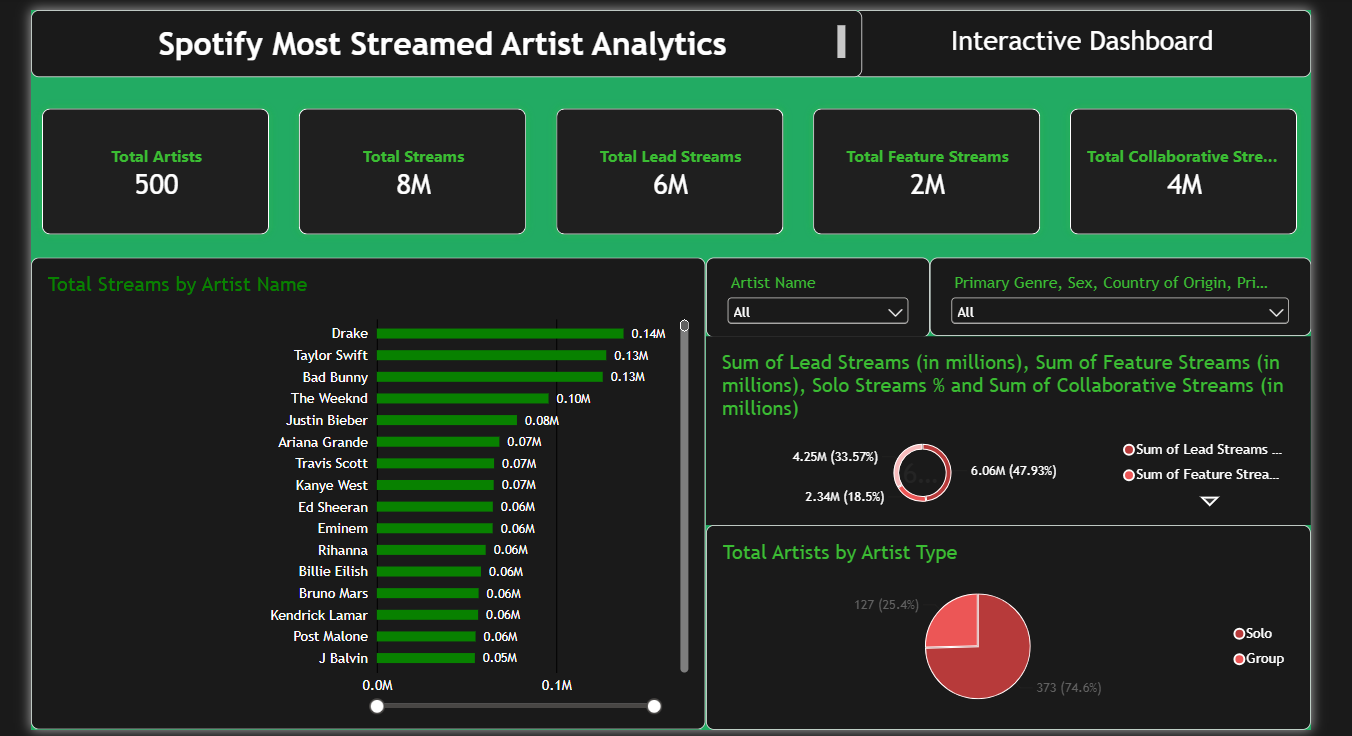

The dashboard page shown, as its layout file describes it:
{"tool":"powerbi","page":{"name":"Overview","canvas":[1280,720],"ordinal":0},"visuals":[{"type":"cardVisual","fields":{"Data":["FactStreamedSpotify.Total Artists","FactStreamedSpotify.Total Streams","FactStreamedSpotify.Total Lead Streams","FactStreamedSpotify.Total Feature Streams","FactStreamedSpotify.Total Collaborative Streams"]},"box":[0,27.9,1280,208.5],"z":0},{"type":"clusteredBarChart","fields":{"Category":["DimArtist.Artist Name"],"Y":["FactStreamedSpotify.Total Streams"]},"box":[0,247.9,674.6,471.8],"z":1000},{"type":"slicer","fields":{"Values":["DimArtist.Artist Name"]},"box":[688,248,224,80],"z":2000},{"type":"donutChart","fields":{"Y":["Sum(FactStreamedSpotify.Lead Streams (in millions))","Sum(FactStreamedSpotify.Feature Streams (in millions))","FactStreamedSpotify.Solo Streams %","Sum(FactStreamedSpotify.Collaborative Streams (in millions))"]},"box":[684.2,325.8,595.8,189.3],"z":3000},{"type":"pieChart","fields":{"Category":["DimArtist. Artist Type"],"Y":["FactStreamedSpotify.Total Artists"]},"box":[684.2,522.8,595.8,197],"z":4000},{"type":"slicer","fields":{"Values":["DimArtist.Primary Genre","DimArtist.Sex","DimArtist.Country of Origin","DimArtist.Primary Language","DimArtist. Artist Type"]},"box":[914.8,247.9,365.2,78.8],"z":5000}]}

Visuals, with their boxes on the page's 1280x720 design canvas (x1, y1, x2, y2). These are canvas units, not pixel positions in the 1352x736 screenshot, which may show the page scaled, cropped or inside an application window:
cardVisual - FactStreamedSpotify.Total Artists x FactStreamedSpotify.Total Streams: {"x1": 0, "y1": 28, "x2": 1280, "y2": 236}
clusteredBarChart - DimArtist.Artist Name x FactStreamedSpotify.Total Streams: {"x1": 0, "y1": 248, "x2": 675, "y2": 720}
slicer - DimArtist.Artist Name: {"x1": 688, "y1": 248, "x2": 912, "y2": 328}
donutChart - Sum(FactStreamedSpotify.Lead Streams (in millions)) x Sum(FactStreamedSpotify.Feature Streams (in millions)): {"x1": 684, "y1": 326, "x2": 1280, "y2": 515}
pieChart - DimArtist. Artist Type x FactStreamedSpotify.Total Artists: {"x1": 684, "y1": 523, "x2": 1280, "y2": 720}
slicer - DimArtist.Primary Genre x DimArtist.Sex: {"x1": 915, "y1": 248, "x2": 1280, "y2": 327}
